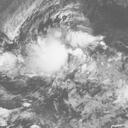cyclone: (21, 30, 90, 78)
